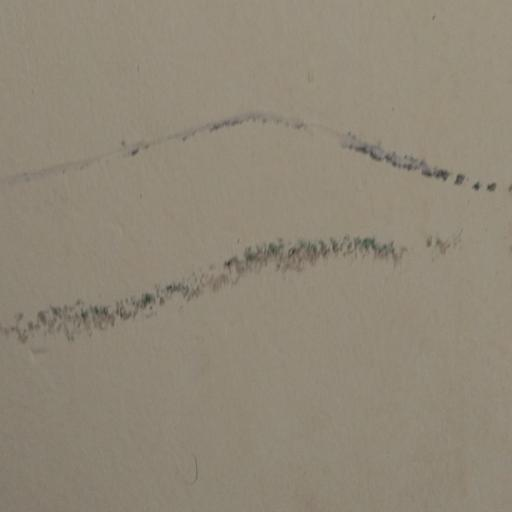stain: (0, 97, 512, 368)
